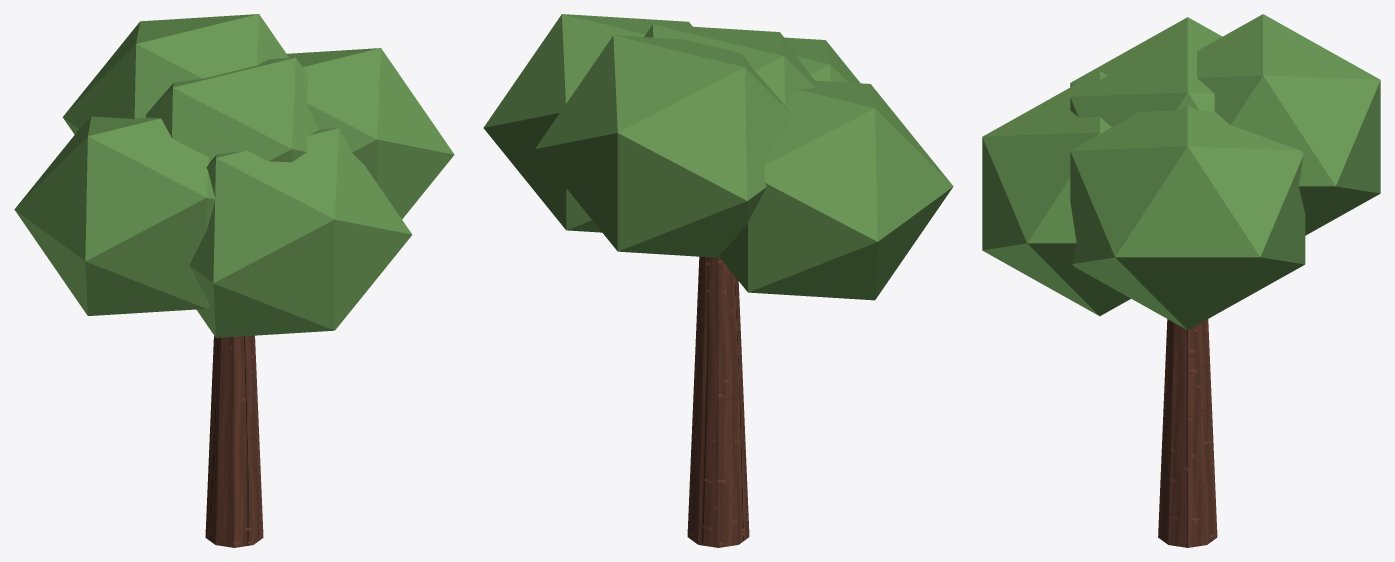
The model's file is broadleaf.glb.
The picture shows the model from 3 angles, left to right: view 1: azimuth 30°, elevation 25°; view 2: azimuth 150°, elevation 25°; view 3: azimuth 270°, elevation 25°; orthographic projection. The views are drawn at different scales.
Visible parts, largest first — view 1: 0_leaf, 0_woodTex; view 2: 0_leaf, 0_woodTex; view 3: 0_leaf, 0_woodTex.
Part boxes in pixels (x1,y1,x2,y2): 0_leaf: [14, 14, 454, 337]; 0_woodTex: [205, 335, 263, 547]; 0_leaf: [483, 14, 953, 300]; 0_woodTex: [687, 256, 749, 547]; 0_leaf: [982, 14, 1380, 330]; 0_woodTex: [1158, 319, 1217, 547].
Bounding box in the file's own units: 5.21 × 6.46 × 4.76.
Materials: 2 (1 with a texture image).
